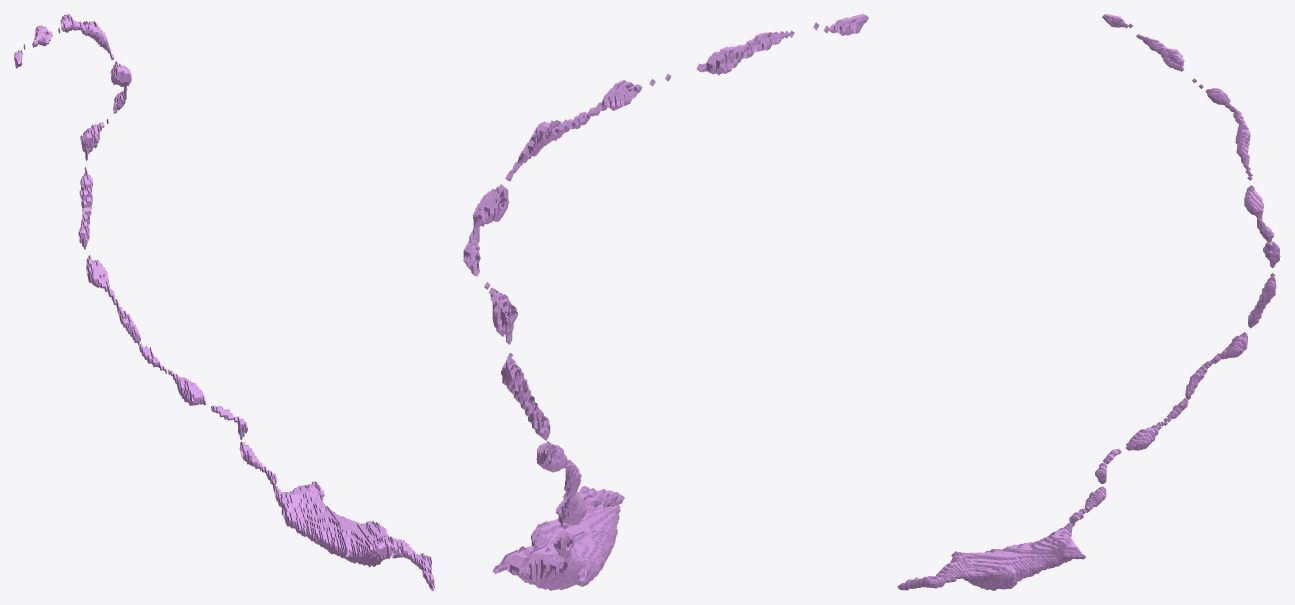
File: SVV_SDQL.gltf
3 renders of one model, left to right at view 1: azimuth 30°, elevation 25°; view 2: azimuth 150°, elevation 25°; view 3: azimuth 270°, elevation 25°, orthographic. The views are drawn at different scales.
Visible parts, largest first — view 1: SDQL; view 2: SDQL; view 3: SDQL.
Part boxes in pixels (box(x1,y1,x2,y2)): SDQL: box(14, 14, 434, 590); SDQL: box(463, 14, 868, 590); SDQL: box(897, 14, 1280, 590).
Size of the model in its own units: 76655 by 122684 by 93376.
